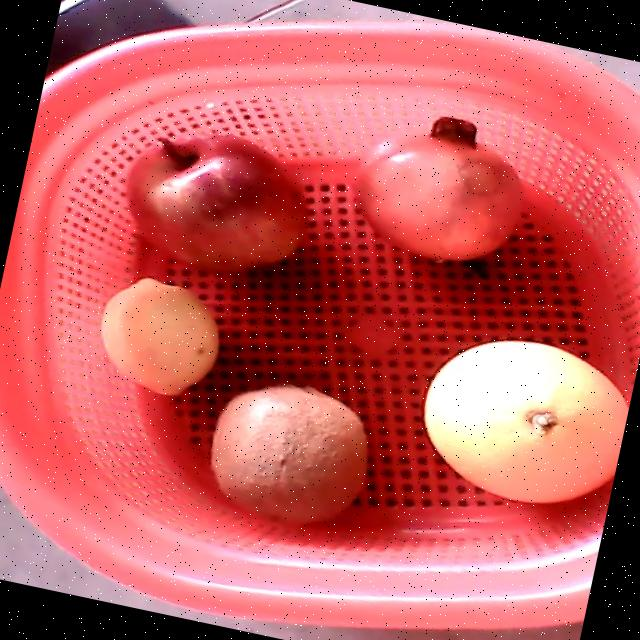apple: (127, 132, 307, 273)
kiwi: (210, 382, 369, 524)
lemon: (99, 277, 218, 395)
orange: (422, 335, 627, 502)
pomegranate: (352, 117, 526, 260)
